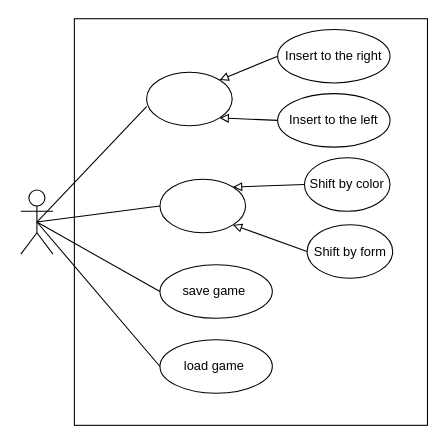
This 446x444 diagram has some shape labels left out. Here are the shapes that lost their labels. From the top down, the centre of each, then its label:
[189,98]: Insert Piece
[36,221]: Player
[202,205]: Shift Pieces
